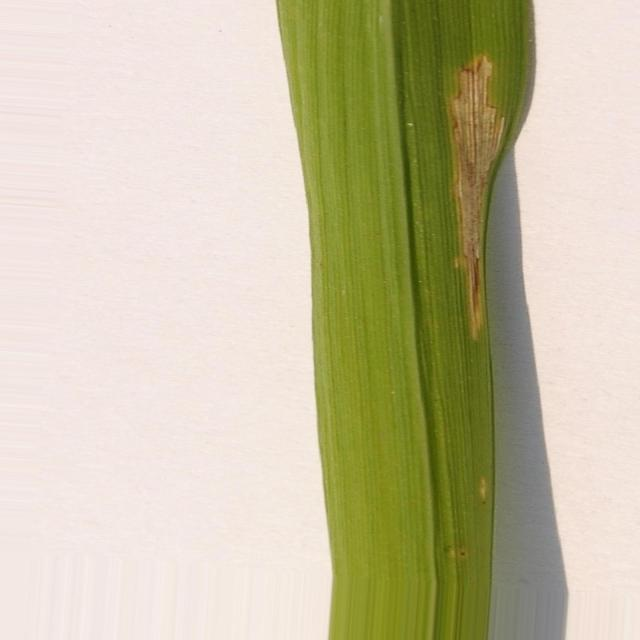Bacterial_Leaf_Blight: (450, 55, 505, 339), (479, 478, 488, 500)
